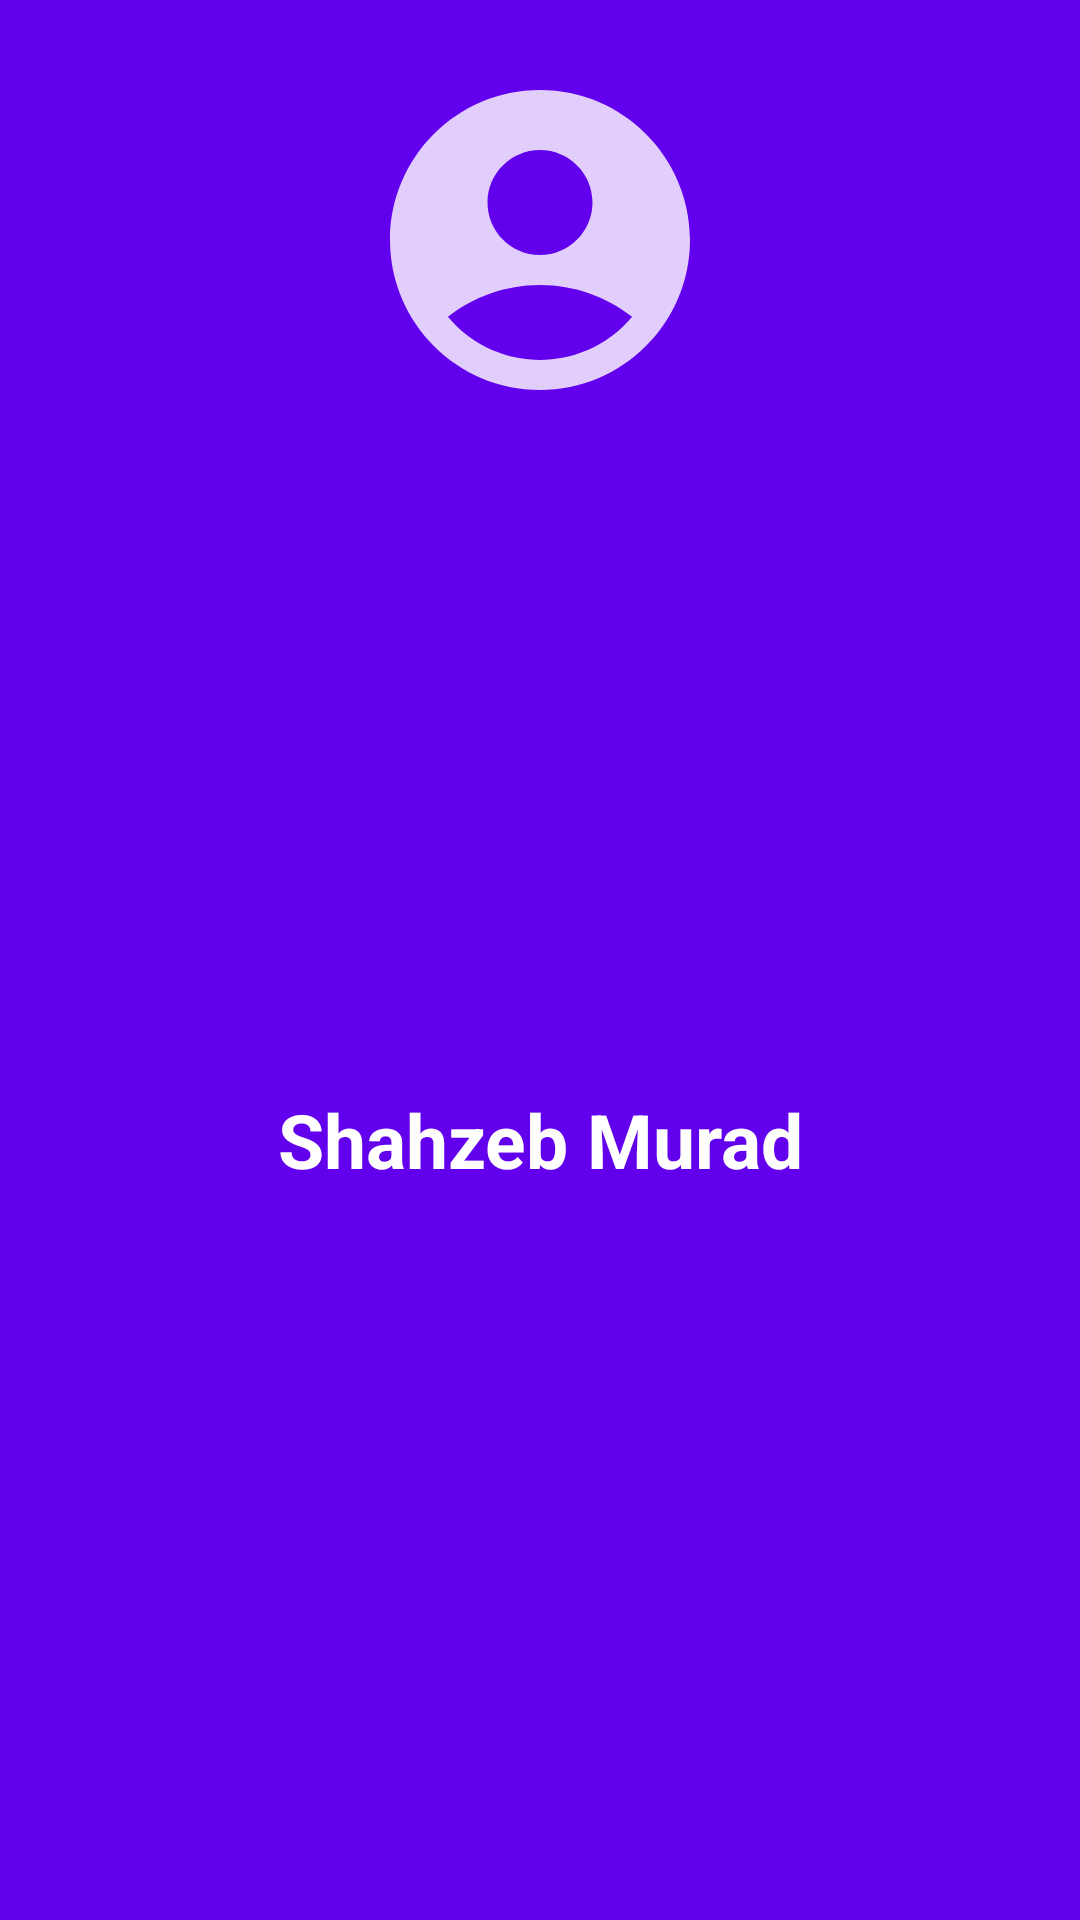

Icons on this 1080 x 1920 Android screen, each with the point to tap as [x,y]:
account circle: [540,240]
